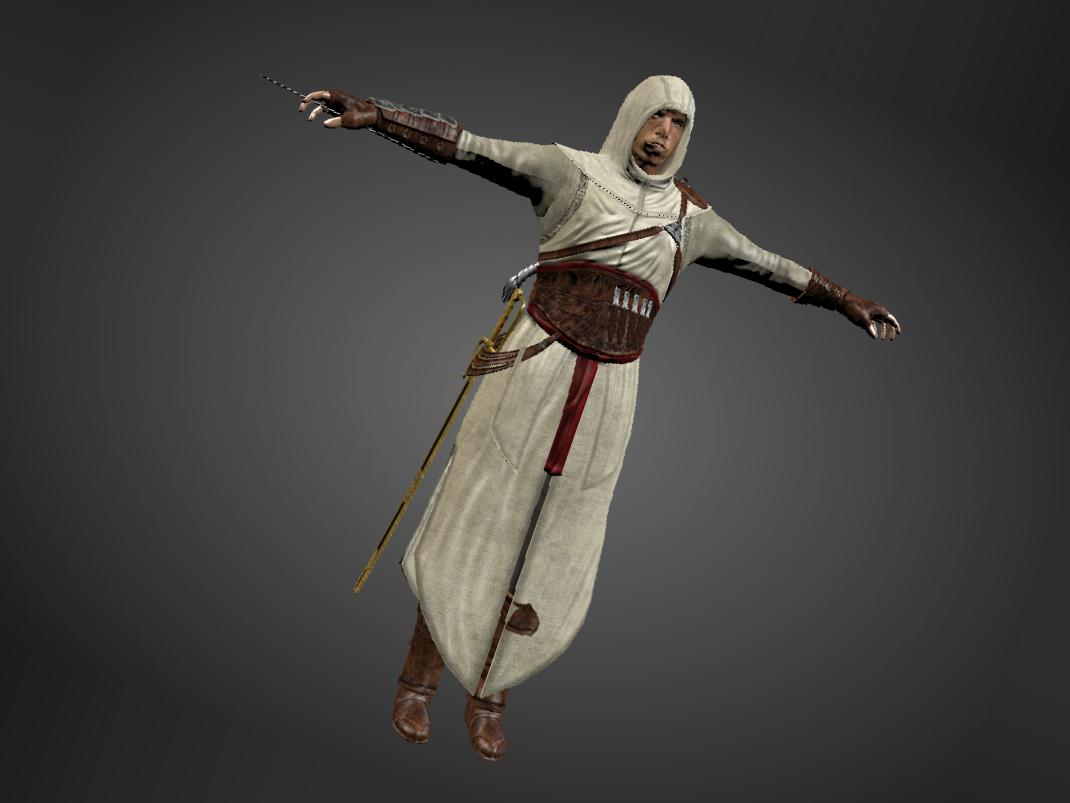clip: (502, 595, 548, 651)
